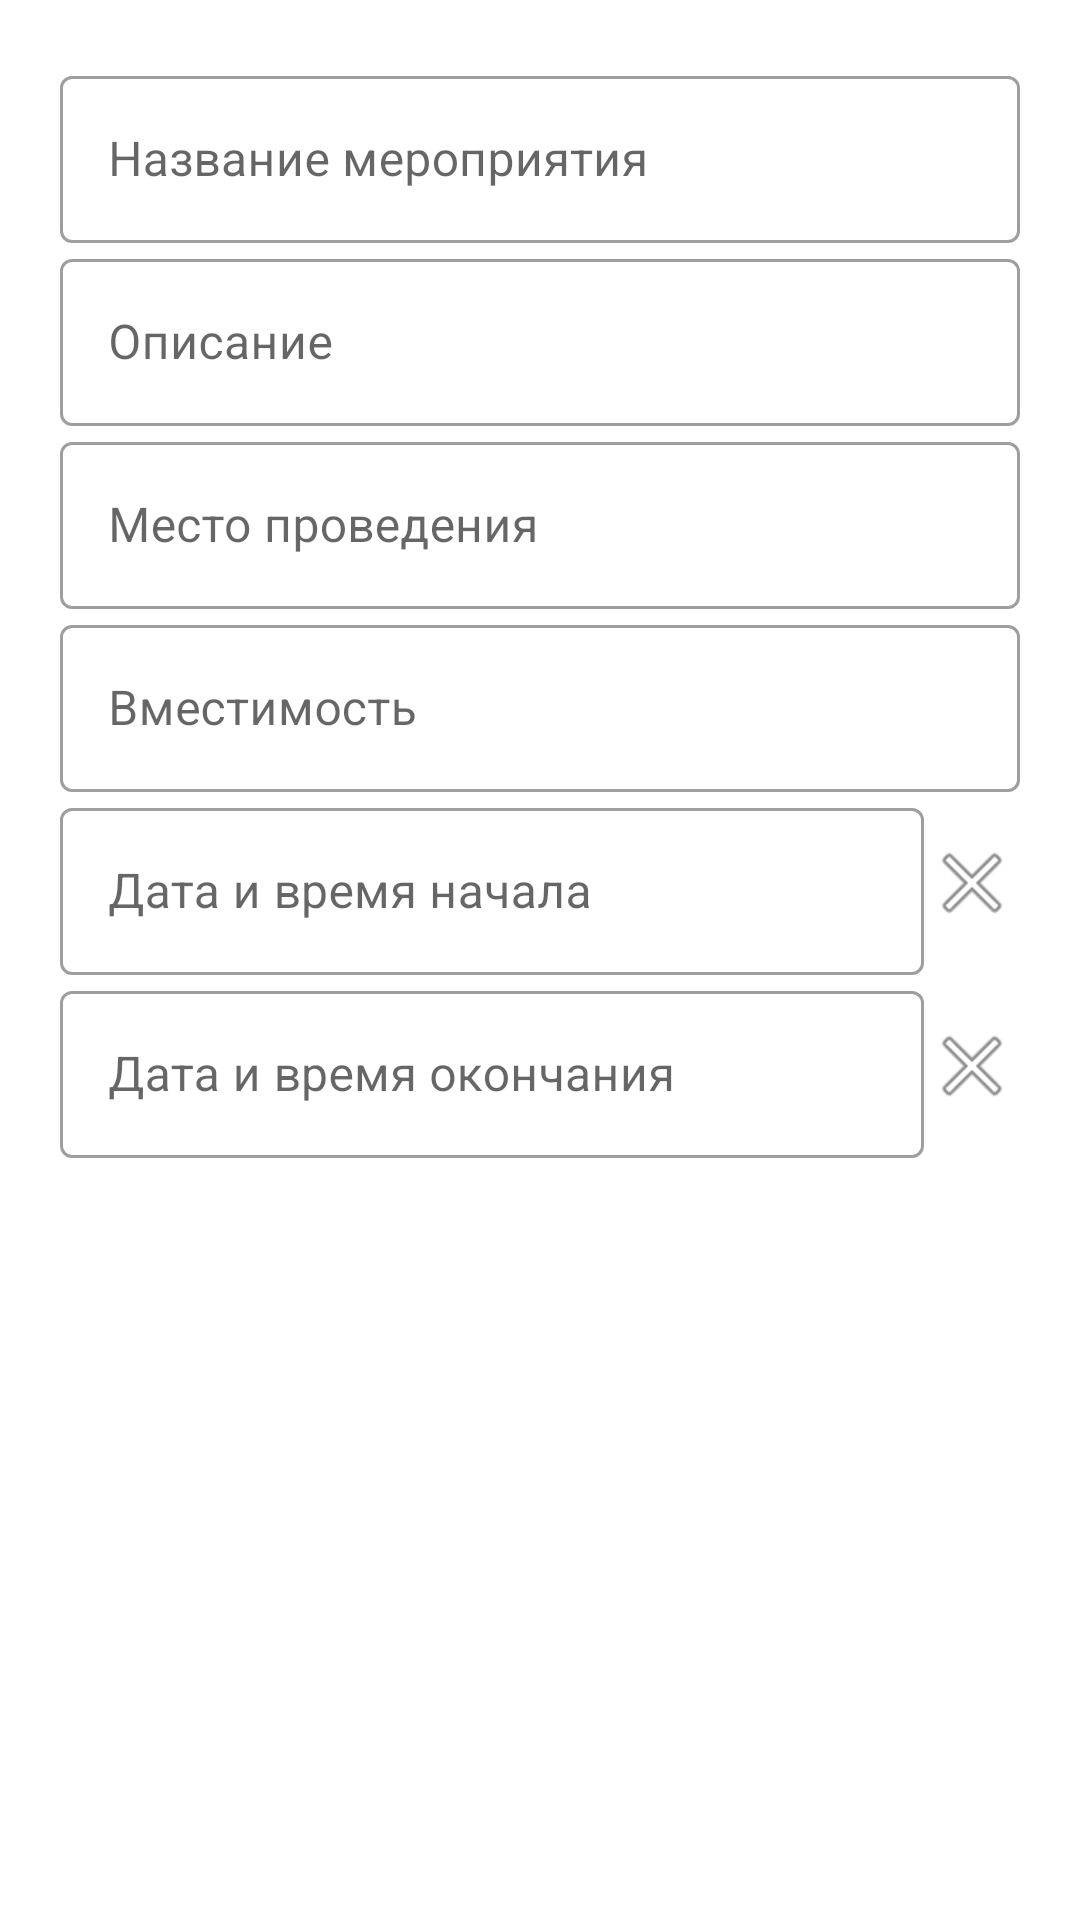

Where to tap for icons on this 1080w x 1920h app screen, as point (x, y):
Очистить дату начала: point (972, 883)
Очистить дату окончания: point (972, 1066)
